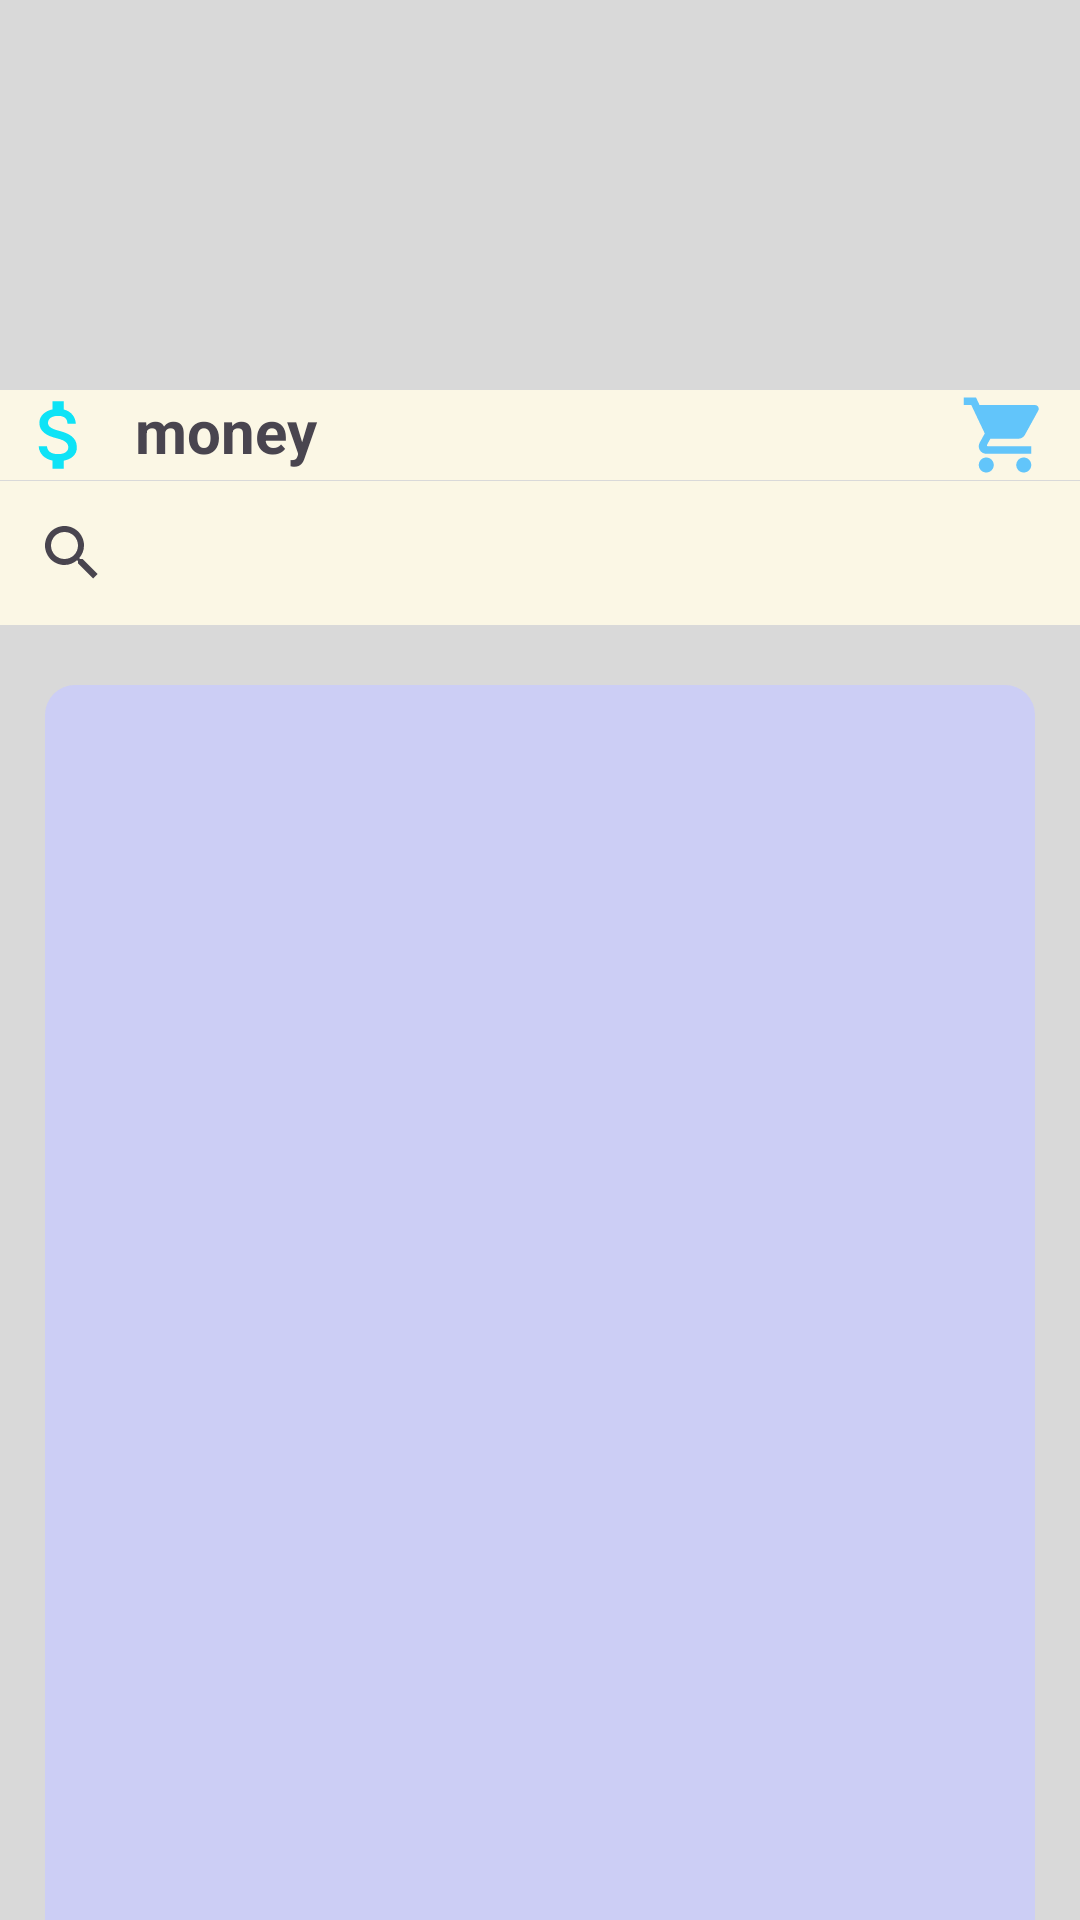

Named icons in this screenshot (1080 × 1920) and their centers, (x,y):
shopping cart: (1001,435)
